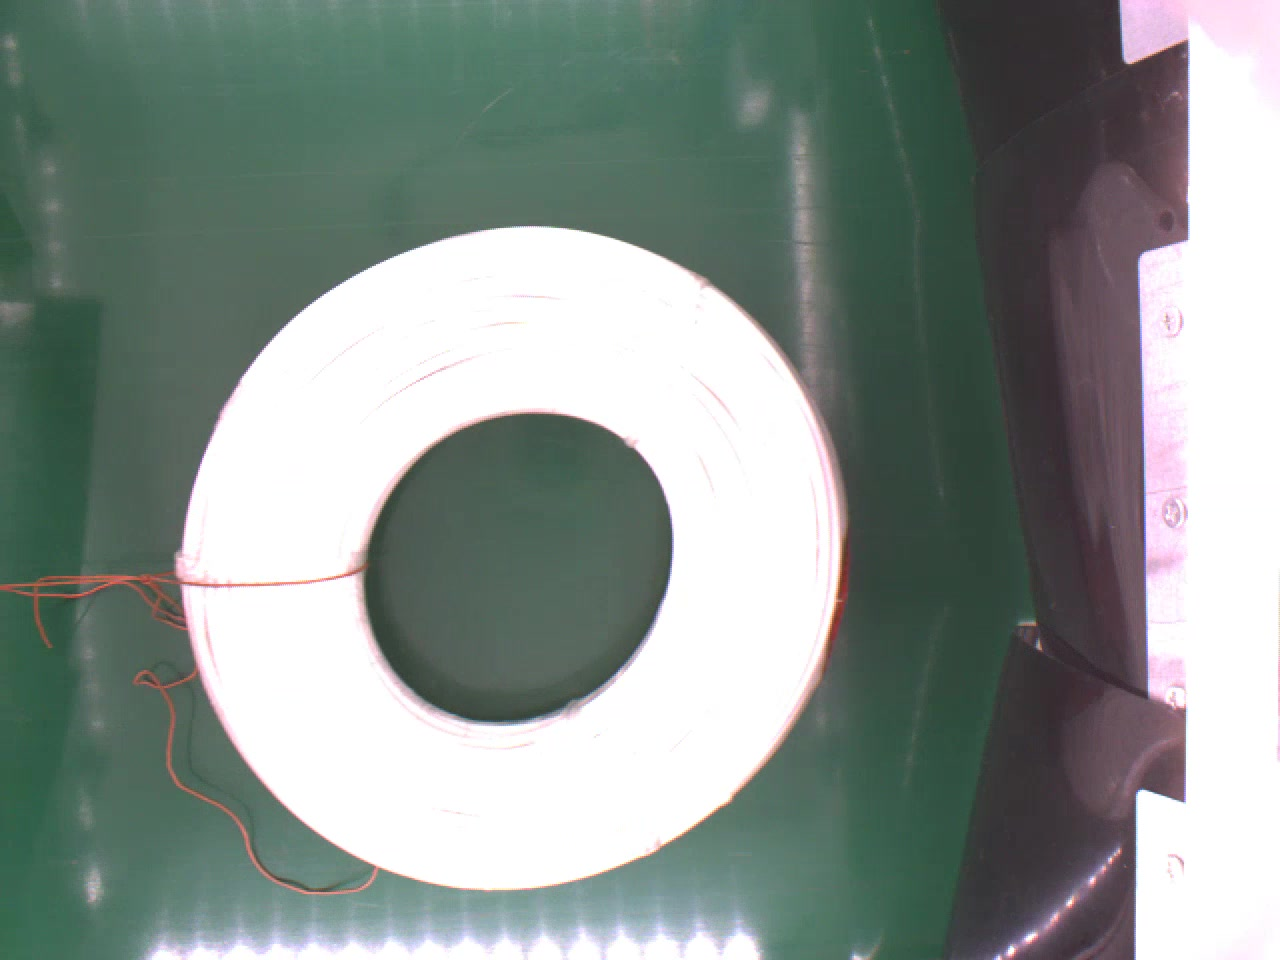white: (179, 218, 848, 890)
